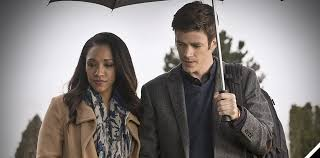Bad: (35, 2, 272, 158)
